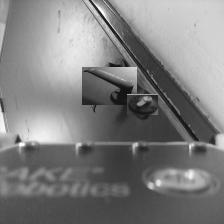Door Handle: (86, 62, 132, 110)
Lock: (129, 92, 156, 118)
